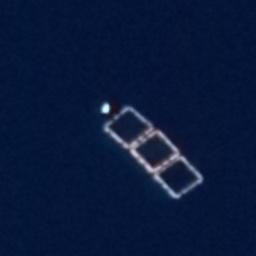square_solid: (99, 102, 161, 155), (151, 153, 209, 203), (129, 126, 185, 176)
